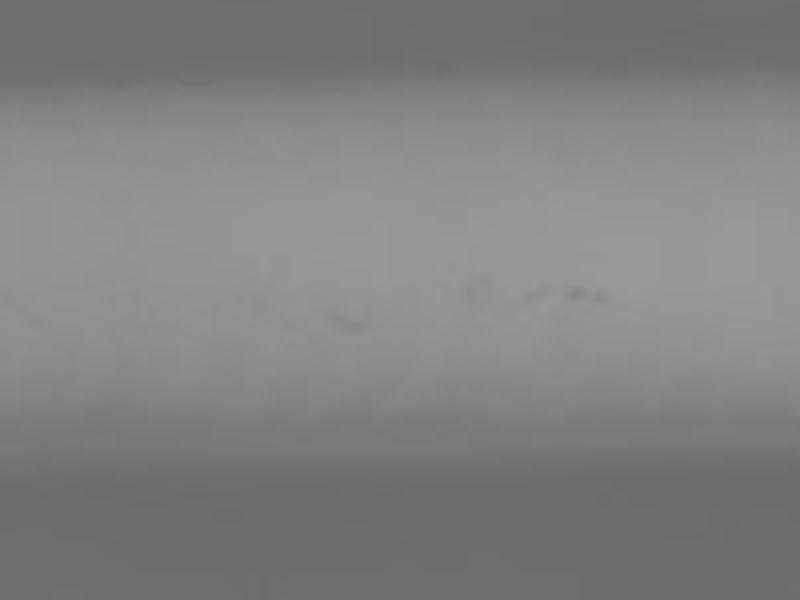defect: (336, 311, 367, 337), (564, 283, 586, 302), (589, 288, 611, 303)
